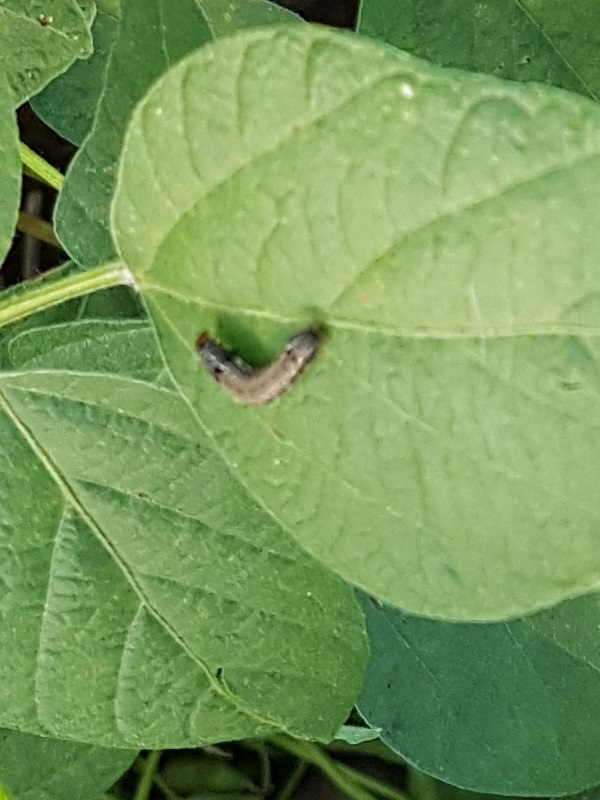Spodoptera_albula: (173, 306, 333, 426)
